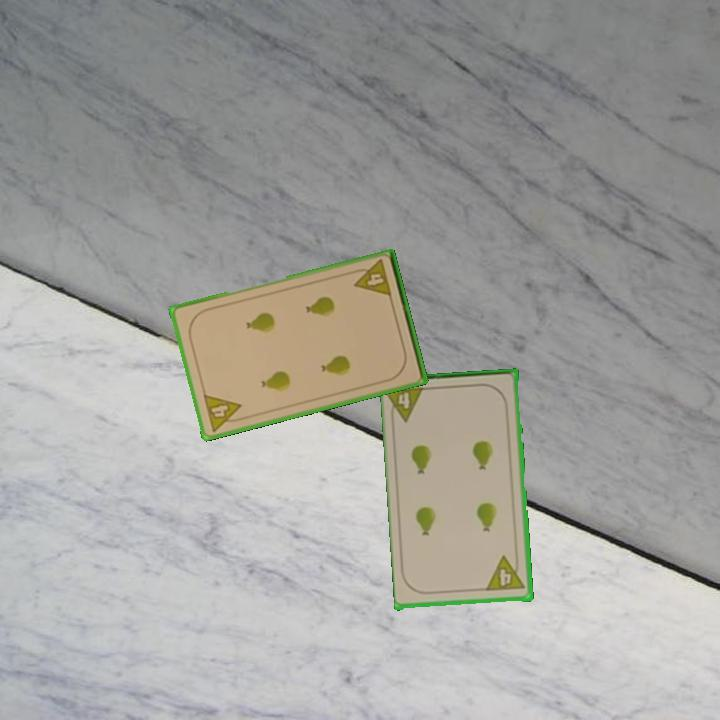4p: (348, 256, 394, 300), (200, 391, 247, 434), (384, 383, 429, 426), (483, 553, 528, 594)
